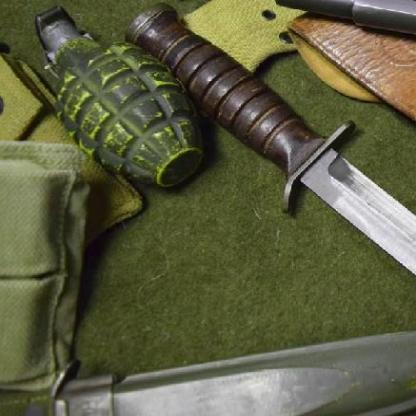Grenade: (33, 5, 204, 188)
Knife: (125, 6, 416, 278), (71, 323, 416, 416)
